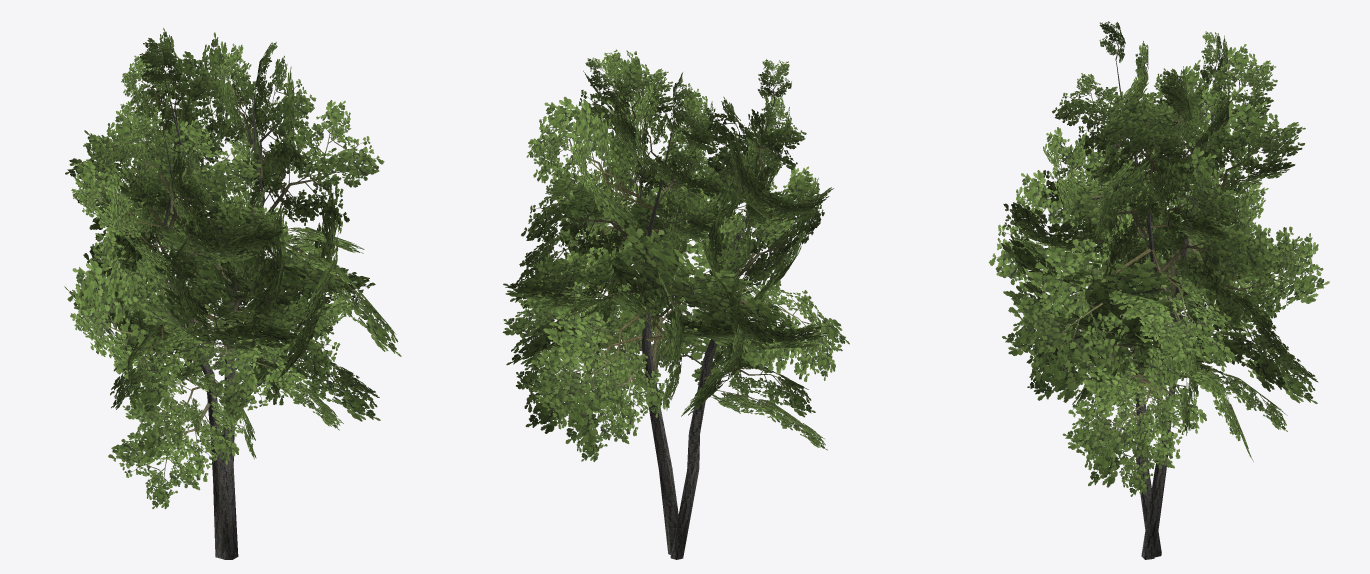
File: tree16.fbx
3 views of the same model, side by side, from view 1: azimuth 30°, elevation 25°; view 2: azimuth 150°, elevation 25°; view 3: azimuth 270°, elevation 25° (orthographic).
Visible parts, largest first — view 1: Tree-03-2; view 2: Tree-03-2; view 3: Tree-03-2.
Boxes of the visible parts, x1,y1,x2,y2 form: Tree-03-2: (64,28,401,559); Tree-03-2: (502,49,849,559); Tree-03-2: (988,21,1329,559).
Size of the model in its own units: 659 by 868 by 663.
